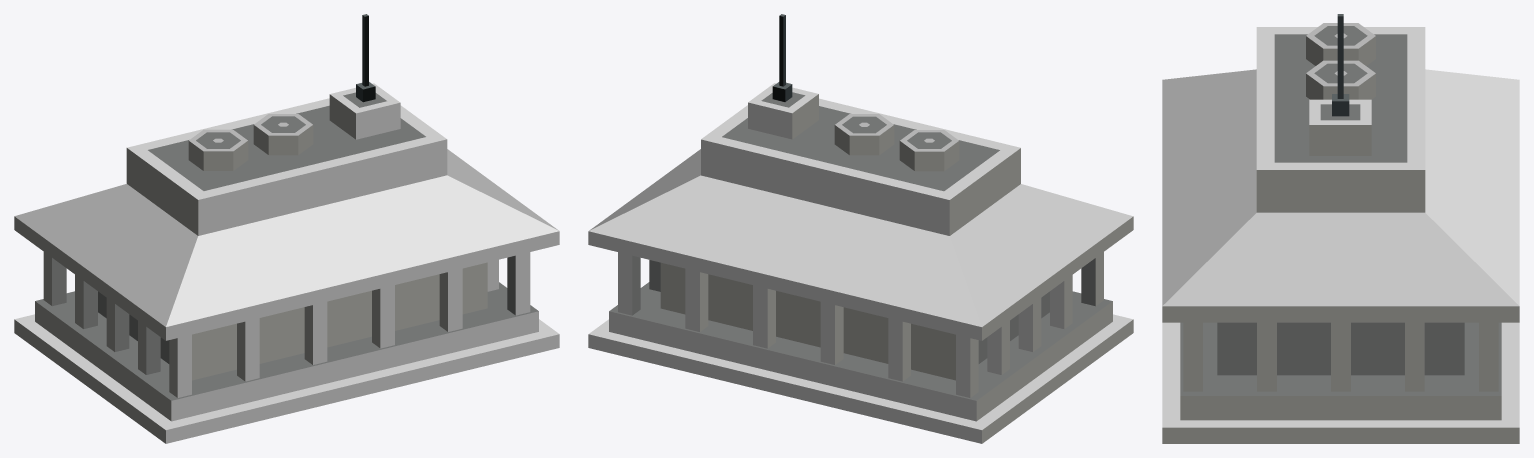
File: TB_CITY_Skysc_E_Top_Gray.FBX
The picture shows the model from 3 angles, left to right: view 1: azimuth 30°, elevation 25°; view 2: azimuth 150°, elevation 25°; view 3: azimuth 270°, elevation 25°; orthographic projection. The views are drawn at different scales.
Visible parts, largest first — view 1: TB_CITY_Skysc_E_Top_Gray; view 2: TB_CITY_Skysc_E_Top_Gray; view 3: TB_CITY_Skysc_E_Top_Gray.
Boxes of the visible parts, x1,y1,x2,y2 form: TB_CITY_Skysc_E_Top_Gray: (14,14,559,443); TB_CITY_Skysc_E_Top_Gray: (588,14,1133,443); TB_CITY_Skysc_E_Top_Gray: (1162,14,1519,443).
Size of the model in its own units: 30 by 22.27 by 20.
